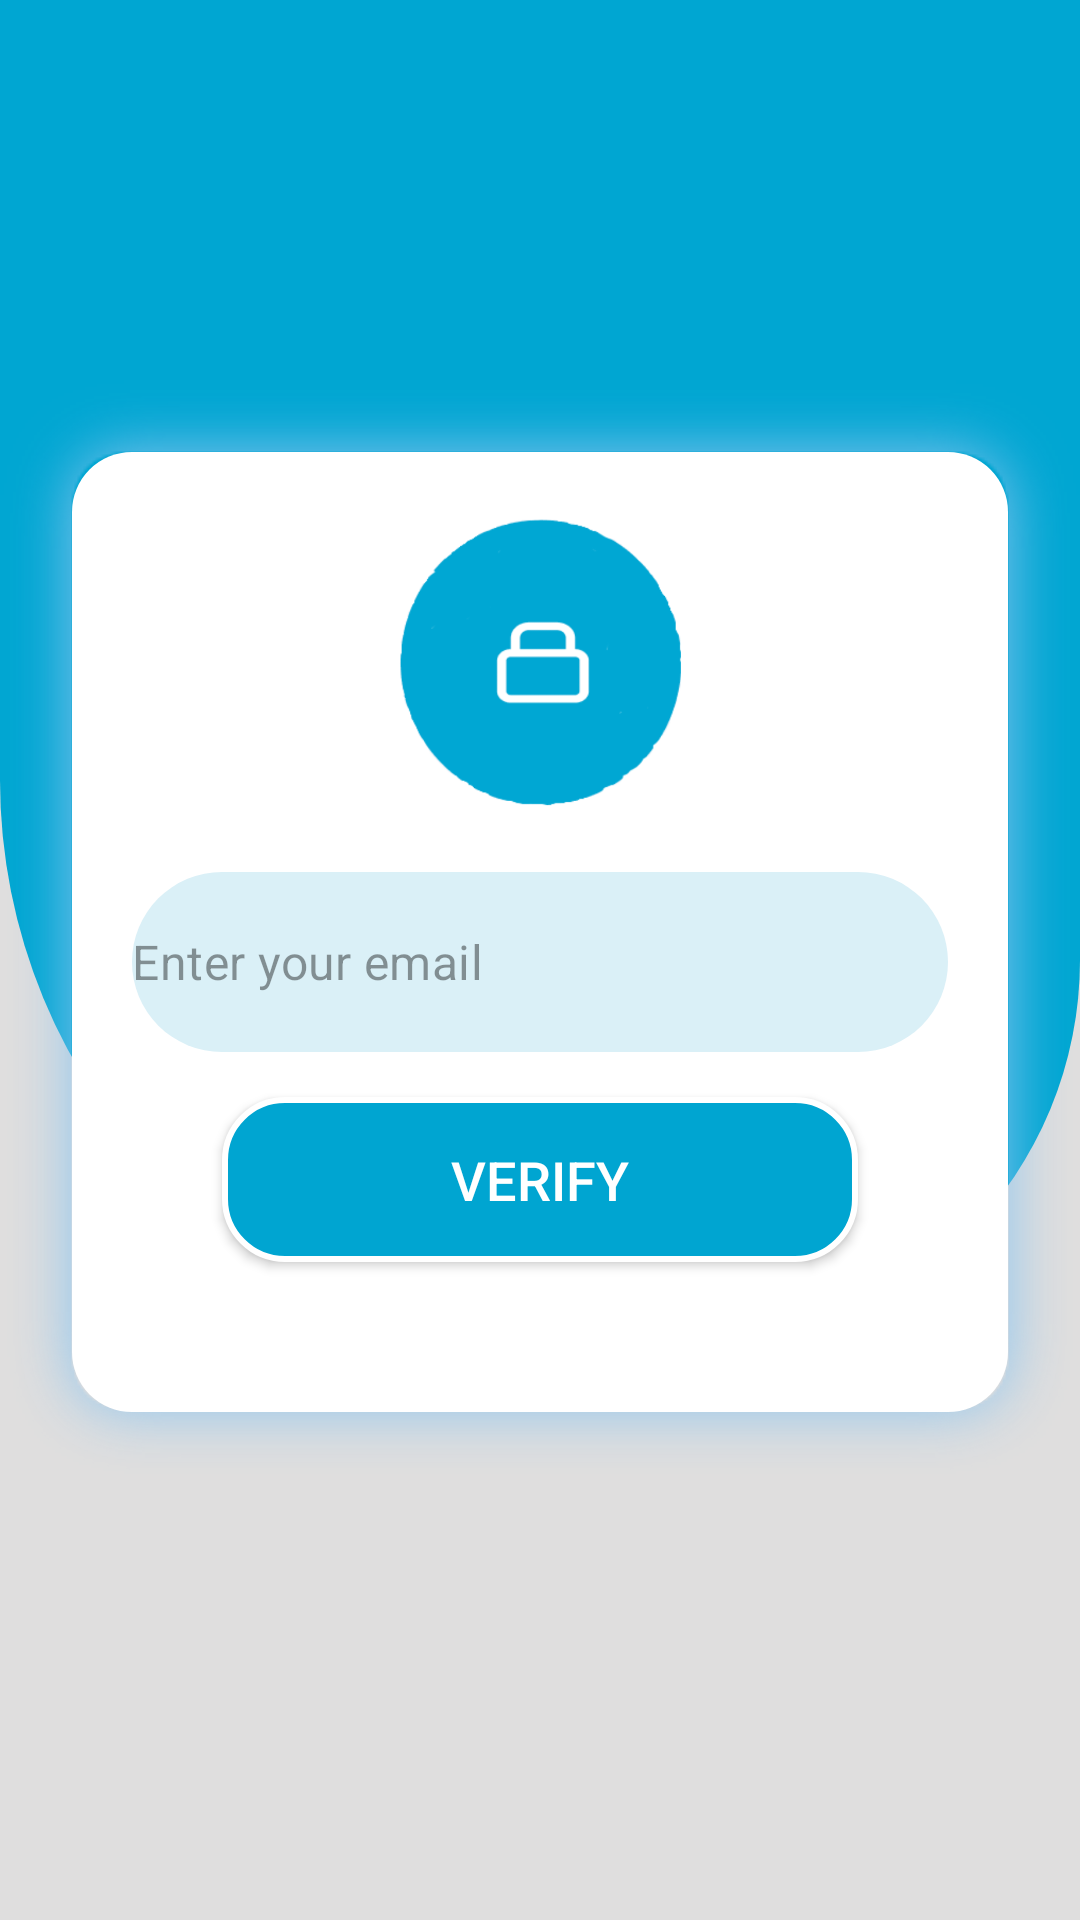

Where icons sit on this 1080w x 1920h app screen, as (x1, y1, x2, y2):
lock: (400, 519, 681, 806)
